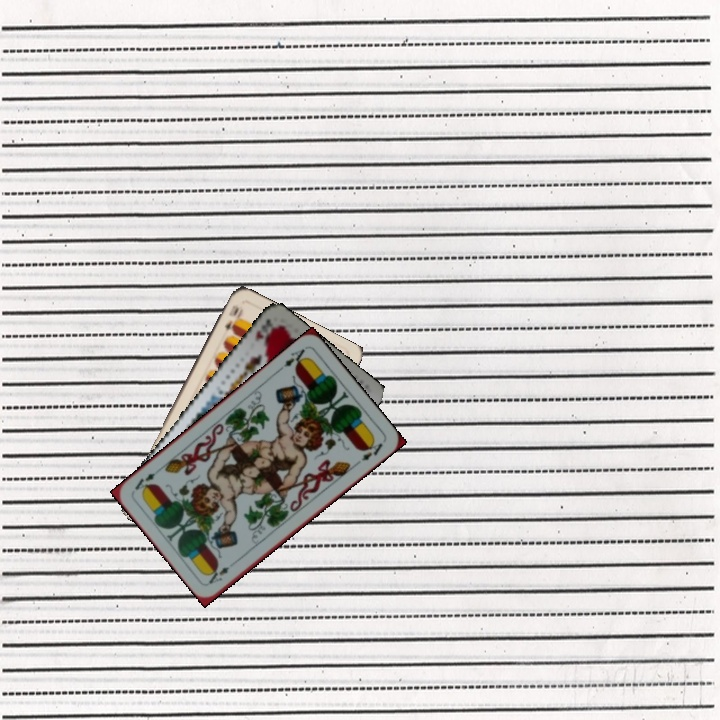E10: (221, 300, 246, 334)
EA: (274, 345, 311, 374), (204, 563, 231, 587)
HK: (251, 314, 280, 347)
